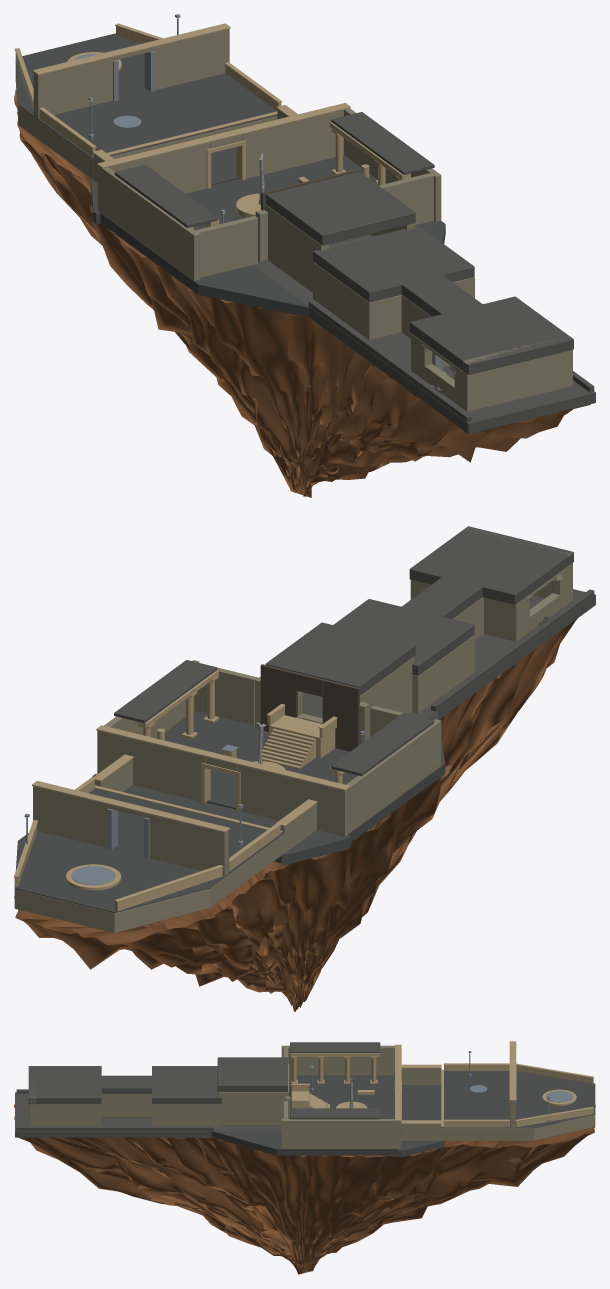
File: a_vault.glb
3 views of the same model, one above another, from view 1: azimuth 30°, elevation 25°; view 2: azimuth 150°, elevation 25°; view 3: azimuth 270°, elevation 25° (orthographic). The views are drawn at different scales.
Visible parts, largest first — view 1: island_a_vault; view 2: island_a_vault; view 3: island_a_vault.
Boxes of the visible parts, x1,y1,x2,y2 form: island_a_vault: (14, 14, 595, 497); island_a_vault: (14, 526, 595, 1011); island_a_vault: (14, 1041, 595, 1274).
Size of the model in its own units: 25.67 by 31.09 by 81.23.
